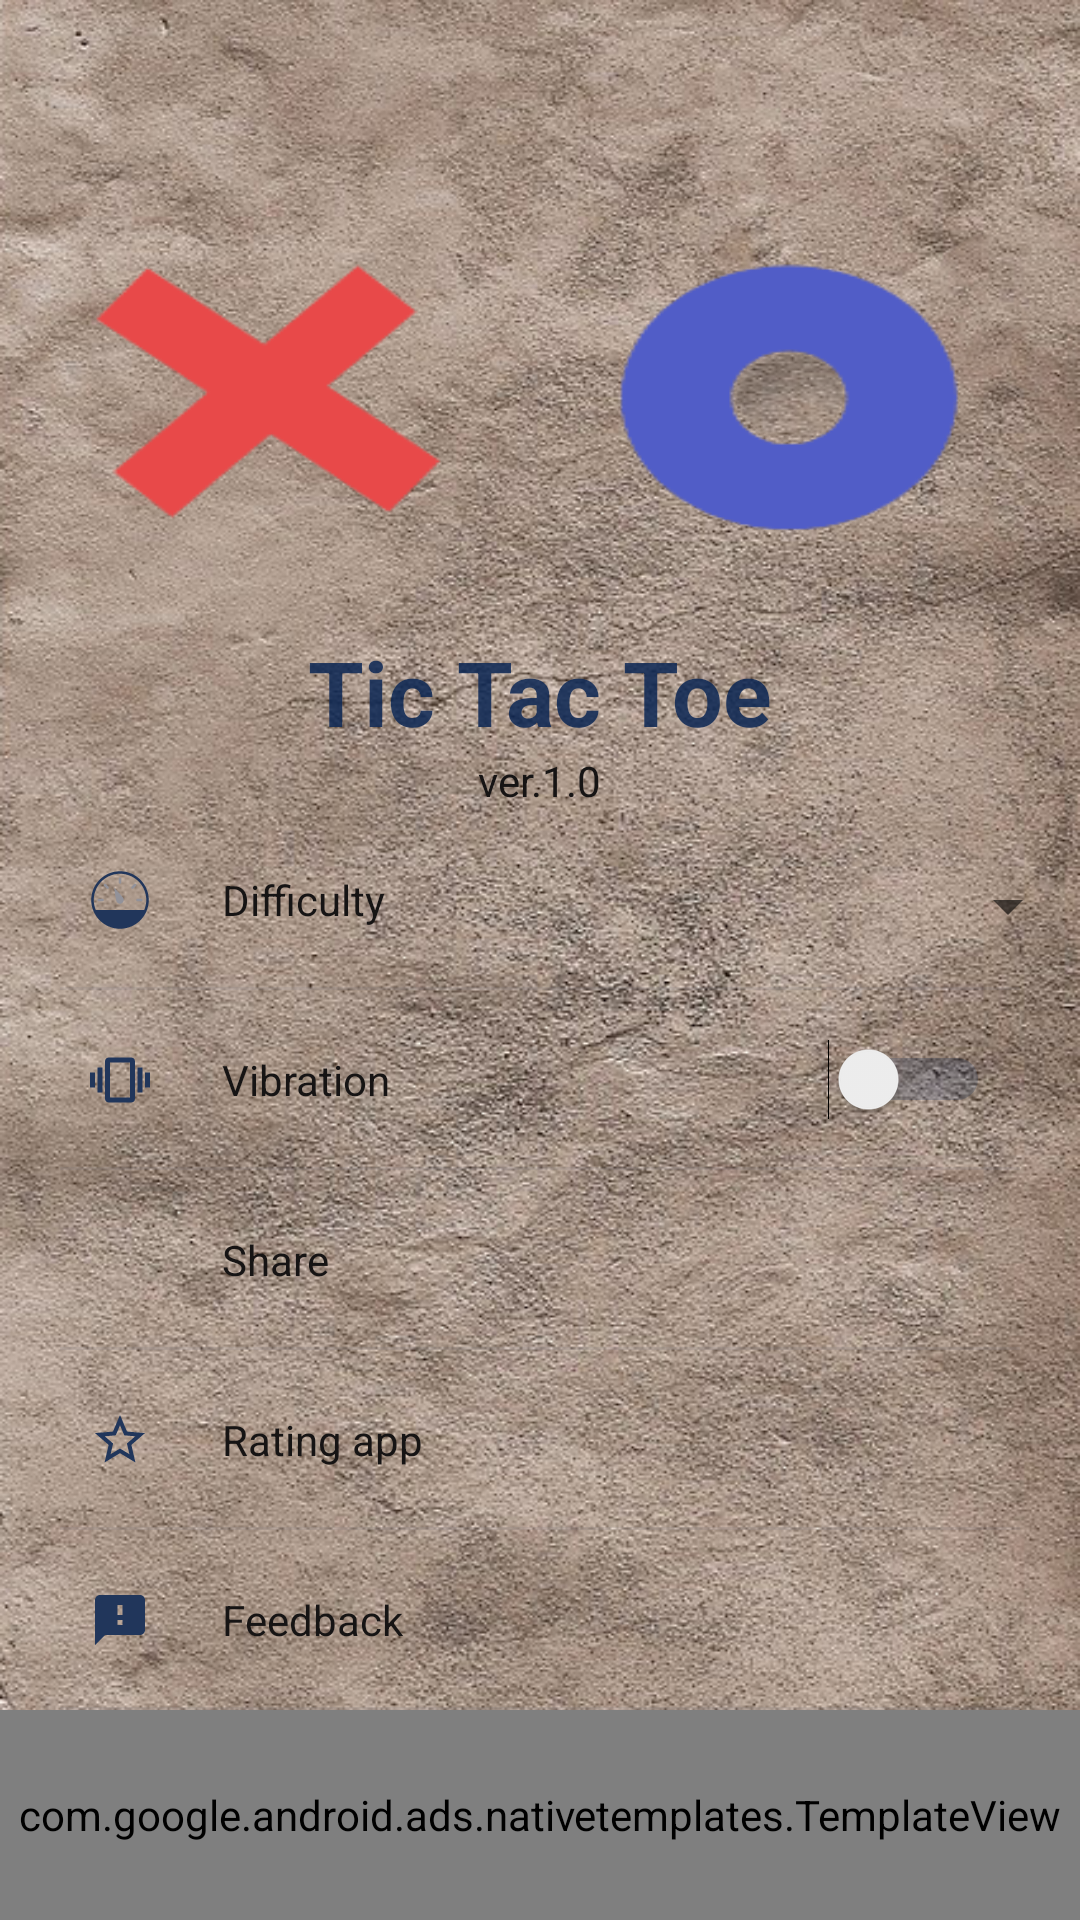

Where icons sit on this 1080 x 1920 app screen, as (x1, y1, x2, y2):
diffecultly: (90, 870, 149, 930)
star: (90, 1410, 150, 1470)
